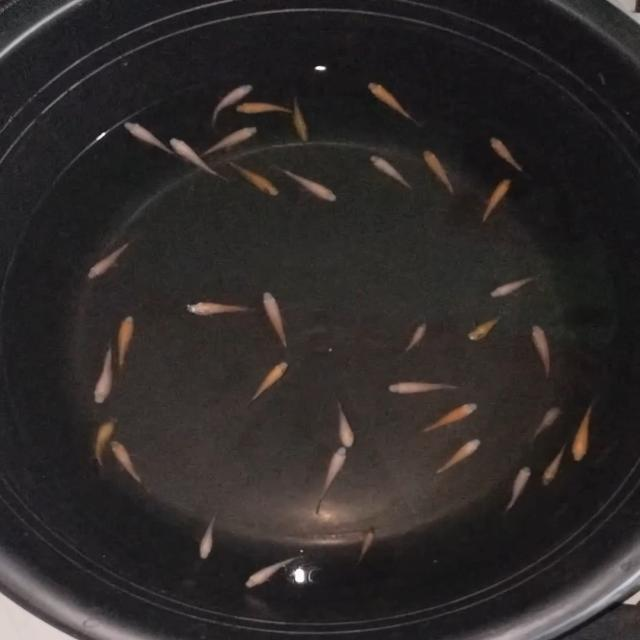nila: (170, 134, 233, 182), (364, 76, 424, 126), (242, 546, 306, 590), (194, 120, 262, 160), (275, 164, 341, 203), (240, 359, 290, 409), (313, 445, 348, 516), (204, 79, 254, 128), (260, 286, 294, 356), (222, 156, 280, 197), (424, 438, 483, 478), (417, 399, 479, 436), (121, 118, 176, 159), (487, 130, 535, 176), (420, 146, 459, 202), (367, 150, 415, 194), (108, 436, 146, 490), (86, 238, 130, 282), (570, 398, 598, 466), (480, 174, 512, 227), (487, 270, 542, 300), (92, 412, 119, 472), (502, 462, 532, 516), (530, 321, 556, 382), (541, 437, 571, 485), (466, 310, 508, 344), (530, 402, 560, 448), (332, 396, 357, 450), (94, 340, 115, 404), (183, 302, 261, 319), (388, 378, 460, 396), (230, 97, 298, 116), (290, 90, 313, 142), (116, 314, 136, 372), (198, 510, 218, 566), (400, 320, 430, 357), (354, 524, 376, 562)
